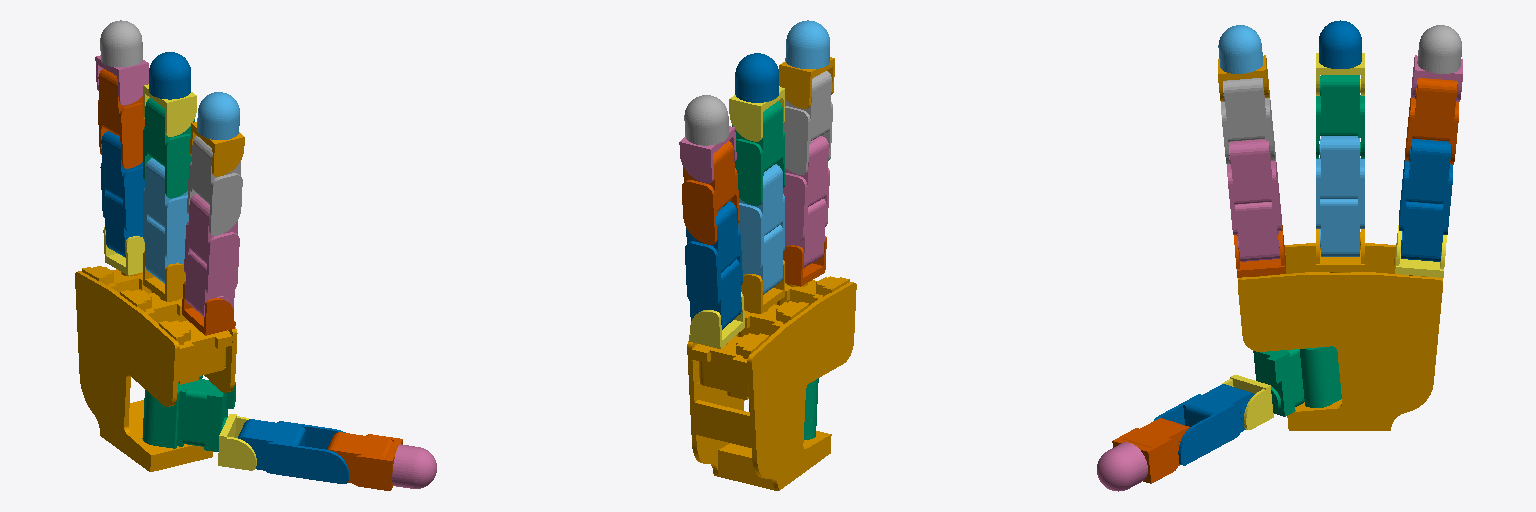
robot.urdf — allegro_left:
<?xml version="1.0" encoding="utf-8"?>
<robot name="allegro_left">
  <link name="base_link">
    <inertial>
      <mass value="0.4154"/>
      <origin rpy="0 0 0" xyz="0 0 0"/>
      <inertia ixx="1e-4" ixy="0" ixz="0" iyy="1e-4" iyz="0" izz="1e-4"/>
    </inertial>
    <visual>
      <geometry>
        <mesh filename="meshes/visual/base_link_left.stl"/>
      </geometry>
      <origin rpy="-1.570795 0 0" xyz="0 0 0 "/>
    </visual>
    <collision>
      <origin rpy="0 0 0" xyz="-0.009 0.0 -0.023"/>
      <geometry>
        <box size="0.0414 0.112 0.0448"/>
      </geometry>
    </collision>
    <collision>
      <origin rpy="0 0 0" xyz="-0.009 0.0253 -0.0667"/>
      <geometry>
        <box size="0.0414 0.0538 0.0428"/>
      </geometry>
    </collision>
    <collision>
      <origin rpy="0 0 0" xyz="-0.009300 0.00557 -0.08874"/>
      <geometry>
        <box size="0.0414 0.0720 0.013"/>
      </geometry>
    </collision>
  </link> <!--  virtual link-->
  <link name="palm"/>
  <joint name="palm_joint" type="fixed">
    <parent link="base_link"/>
    <child link="palm"/>
    <origin rpy="0.00000 -0.00000 0.00000" xyz="0 0 -0.065"/>
  </joint> <!--  virtual link-->
  <link name="wrist"/>
  <joint name="wrist_joint" type="fixed">
    <origin rpy="0 0 0" xyz="0 0 -0.03"/>
    <parent link="palm"/>
    <child link="wrist"/>
  </joint>
  <link name="link_0.0">
    <visual>
      <geometry>
        <mesh filename="meshes/visual/link_0.stl"/>
      </geometry>
    </visual>
    <collision>
      <geometry>
        <box size="0.0196 0.0275 0.0164"/>
      </geometry>
      <origin rpy="0 0 0" xyz="0 0 0.0082"/>
    </collision>
    <inertial>
      <mass value="0.0119"/>
      <origin xyz="0 0 0" rpy="0 0 0"/>
      <inertia ixx="1.01666658333e-06" ixy="0.0" ixz="0.0" iyy="6.47677333333e-07" iyz="0.0" izz="1.01666658333e-06"/>
    </inertial>
  </link>
  <joint name="joint_0.0" type="revolute">
    <axis xyz="0 0 1"/>
    <limit effort="10" lower="-0.47" upper="0.47" velocity="3.14"/>
    <parent link="base_link"/>
    <child link="link_0.0"/>
    <origin rpy="-0.08726646255 0 0" xyz="0 0.0435 -0.001542"/>
  </joint>
  <link name="link_1.0">
    <inertial>
      <mass value="0.065"/>
      <origin xyz="0 0 0" rpy="0 0 0"/>
      <inertia ixx="7.95654166667e-05" ixy="1.7199e-05" ixz="8.75875e-06" iyy="2.47088833333e-05" iyz="2.413125e-05" izz="7.95654166667e-05"/>
    </inertial>
    <visual>
      <geometry>
        <mesh filename="meshes/visual/link_1.stl"/>
      </geometry>
    </visual>
    <collision>
      <geometry>
        <box size="0.0196 0.0275 0.054"/>
      </geometry>
      <origin rpy="0 0 0" xyz="0 0 0.027"/>
    </collision>
  </link>
  <joint name="joint_1.0" type="revolute">
    <limit effort="10" lower="-0.196" upper="1.61" velocity="3.14"/>
    <axis xyz="0 1 0"/>
    <parent link="link_0.0"/>
    <child link="link_1.0"/>
    <origin xyz="0 0 0.0164"/>
  </joint>
  <link name="link_2.0">
    <inertial>
      <mass value="0.0355"/>
      <origin xyz="0 0 0" rpy="0 0 0"/>
      <inertia ixx="2.63979183333e-05" ixy="6.67968e-06" ixz="4.783625e-06" iyy="1.34948516667e-05" iyz="9.372e-06" izz="2.63979183333e-05"/>
    </inertial>
    <visual>
      <geometry>
        <mesh filename="meshes/visual/link_2.stl"/>
      </geometry>
    </visual>
    <collision>
      <geometry>
        <box size="0.0196 0.0275 0.0384"/>
      </geometry>
      <origin rpy="0 0 0" xyz="0 0 0.0192"/>
    </collision>
  </link>
  <joint name="joint_2.0" type="revolute">
    <axis xyz="0 1 0"/>
    <limit effort="10" lower="-0.174" upper="1.709" velocity="3.14"/>
    <parent link="link_1.0"/>
    <child link="link_2.0"/>
    <origin xyz="0 0 0.054"/>
  </joint>
  <link name="link_3.0">
    <visual>
      <geometry>
        <mesh filename="meshes/visual/link_3.stl"/>
      </geometry>
    </visual>
    <collision>
      <geometry>
        <box size="0.0196 0.0269 0.022"/>
      </geometry>
      <origin rpy="0 0 0" xyz="0 0 0.0047"/>
    </collision>
    <inertial>
      <origin rpy="0 0 0" xyz="0 0 0.01335"/>
      <mass value="0.02"/>
      <inertia ixx="1e-5" ixy="0.0" ixz="0.0" iyy="2e-5" iyz="0.0" izz="2e-5"/>
    </inertial>
  </link>
  <joint name="joint_3.0" type="revolute">
    <axis xyz="0 1 0"/>
    <limit effort="10" lower="-0.227" upper="1.618" velocity="3.14"/>
    <parent link="link_2.0"/>
    <child link="link_3.0"/>
    <origin xyz="0 0 0.0384"/>
  </joint>
  <link name="link_3.0_tip">
    <inertial>
      <mass value="0.0168"/>
      <origin xyz="0 0 0" rpy="0 0 0"/>
      <inertia ixx="9.68e-07" ixy="0" ixz="0" iyy="9.68e-07" iyz="0" izz="9.68e-07"/>
    </inertial>
    <visual>
      <origin rpy="0 0 0" xyz="0 0 -0.012"/>
      <geometry>
        <mesh filename="meshes/visual/link_tip.stl"/>
      </geometry>
    </visual>
    <collision>
      <origin rpy="0 0 0" xyz="0 0 -0.012"/>
      <geometry>
        <mesh filename="meshes/collision/link_tip.stl"/>
      </geometry>
    </collision>
  </link>
  <joint name="joint_3.0_tip" type="fixed">
    <parent link="link_3.0"/>
    <child link="link_3.0_tip"/>
    <origin rpy="0 0 0" xyz="0 0 0.0387"/>
  </joint>
  <link name="link_4.0">
    <inertial>
      <mass value="0.005"/>
      <origin xyz="0 0 0"/>
      <inertia ixx="5.1458e-05" iyy="5.1458e-05" izz="6.125e-05" ixy="0" ixz="0" iyz="0"/>
    </inertial>
    <visual>
      <geometry>
        <mesh filename="meshes/visual/link_0.stl"/>
      </geometry>
    </visual>
    <collision>
      <geometry>
        <box size="0.0196 0.0275 0.0164"/>
      </geometry>
      <origin rpy="0 0 0" xyz="0 0 0.0082"/>
    </collision>
  </link>
  <joint name="joint_4.0" type="revolute">
    <axis xyz="0 0 1"/>
    <limit effort="10" lower="-0.47" upper="0.47" velocity="3.14"/>
    <parent link="base_link"/>
    <child link="link_4.0"/>
    <origin rpy="0.0 0 0" xyz="0 0 0.0007"/>
  </joint>
  <link name="link_5.0">
    <inertial>
      <mass value="0.065"/>
      <origin xyz="0 0 0" rpy="0 0 0"/>
      <inertia ixx="7.95654166667e-05" ixy="1.7199e-05" ixz="8.75875e-06" iyy="2.47088833333e-05" iyz="2.413125e-05" izz="7.95654166667e-05"/>
    </inertial>
    <visual>
      <geometry>
        <mesh filename="meshes/visual/link_1.stl"/>
      </geometry>
    </visual>
    <collision>
      <geometry>
        <box size="0.0196 0.0275 0.054"/>
      </geometry>
      <origin rpy="0 0 0" xyz="0 0 0.027"/>
    </collision>
  </link>
  <joint name="joint_5.0" type="revolute">
    <limit effort="10" lower="-0.196" upper="1.61" velocity="3.14"/>
    <axis xyz="0 1 0"/>
    <parent link="link_4.0"/>
    <child link="link_5.0"/>
    <origin xyz="0 0 0.0164"/>
  </joint>
  <link name="link_6.0">
    <inertial>
      <mass value="0.0355"/>
      <origin xyz="0 0 0" rpy="0 0 0"/>
      <inertia ixx="2.63979183333e-05" ixy="6.67968e-06" ixz="4.783625e-06" iyy="1.34948516667e-05" iyz="9.372e-06" izz="2.63979183333e-05"/>
    </inertial>
    <visual>
      <geometry>
        <mesh filename="meshes/visual/link_2.stl"/>
      </geometry>
    </visual>
    <collision>
      <geometry>
        <box size="0.0196 0.0275 0.0384"/>
      </geometry>
      <origin rpy="0 0 0" xyz="0 0 0.0192"/>
    </collision>
  </link>
  <joint name="joint_6.0" type="revolute">
    <axis xyz="0 1 0"/>
    <limit effort="10" lower="-0.174" upper="1.709" velocity="3.14"/>
    <parent link="link_5.0"/>
    <child link="link_6.0"/>
    <origin xyz="0 0 0.054"/>
  </joint>
  <link name="link_7.0">
    <inertial>
      <mass value="0.0388"/>
      <origin xyz="0 0 0" rpy="0 0 0"/>
      <inertia ixx="3.29223173333e-05" ixy="8.042076e-06" ixz="5.2283e-06" iyy="1.47493026667e-5" iyz="1.1283525e-5" izz="3.29223173333e-05"/>
    </inertial>
    <visual>
      <geometry>
        <mesh filename="meshes/visual/link_3.stl"/>
      </geometry>
    </visual>
    <collision>
      <geometry>
        <box size="0.0196 0.0269 0.022"/>
      </geometry>
      <origin rpy="0 0 0" xyz="0 0 0.0047"/>
    </collision>
  </link>
  <joint name="joint_7.0" type="revolute">
    <axis xyz="0 1 0"/>
    <limit effort="10" lower="-0.227" upper="1.618" velocity="3.14"/>
    <parent link="link_6.0"/>
    <child link="link_7.0"/>
    <origin xyz="0 0 0.0384"/>
  </joint>
  <link name="link_7.0_tip">
    <inertial>
      <mass value="0.0096"/>
      <origin xyz="0 0 0" rpy="0 0 0"/>
      <inertia ixx="4.701248e-06" ixy="1.255968e-06" ixz="1.2936e-06" iyy="3.649312e-06" iyz="1.7622e-06" izz="4.701248e-06"/>
    </inertial>
    <visual>
      <origin rpy="0 0 0" xyz="0 0 -0.012"/>
      <geometry>
        <mesh filename="meshes/visual/link_tip.stl"/>
      </geometry>
    </visual>
    <collision>
      <origin rpy="0 0 0" xyz="0 0 -0.012"/>
      <geometry>
        <mesh filename="meshes/collision/link_tip.stl"/>
      </geometry>
    </collision>
  </link>
  <joint name="joint_7.0_tip" type="fixed">
    <parent link="link_7.0"/>
    <child link="link_7.0_tip"/>
    <origin rpy="0 0 0" xyz="0 0 0.0387"/>
  </joint>
  <link name="link_8.0">
    <inertial>
      <mass value="0.005"/>
      <origin xyz="0 0 0"/>
      <inertia ixx="5.1458e-05" iyy="5.1458e-05" izz="6.125e-05" ixy="0" ixz="0" iyz="0"/>
    </inertial>
    <visual>
      <geometry>
        <mesh filename="meshes/visual/link_0.stl"/>
      </geometry>
    </visual>
    <collision>
      <geometry>
        <box size="0.0196 0.0275 0.0164"/>
      </geometry>
      <origin rpy="0 0 0" xyz="0 0 0.0082"/>
    </collision>
  </link>
  <joint name="joint_8.0" type="revolute">
    <axis xyz="0 0 1"/>
    <limit effort="10" lower="-0.47" upper="0.47" velocity="3.14"/>
    <parent link="base_link"/>
    <child link="link_8.0"/>
    <origin rpy="0.08726646255 0 0" xyz="0 -0.0435 -0.001542"/>
  </joint>
  <link name="link_9.0">
    <inertial>
      <mass value="0.065"/>
      <origin xyz="0 0 0" rpy="0 0 0"/>
      <inertia ixx="7.95654166667e-05" ixy="1.7199e-05" ixz="8.75875e-06" iyy="2.47088833333e-05" iyz="2.413125e-05" izz="7.95654166667e-05"/>
    </inertial>
    <visual>
      <geometry>
        <mesh filename="meshes/visual/link_1.stl"/>
      </geometry>
    </visual>
    <collision>
      <geometry>
        <box size="0.0196 0.0275 0.054"/>
      </geometry>
      <origin rpy="0 0 0" xyz="0 0 0.027"/>
    </collision>
  </link>
  <joint name="joint_9.0" type="revolute">
    <limit effort="10" lower="-0.196" upper="1.61" velocity="3.14"/>
    <axis xyz="0 1 0"/>
    <parent link="link_8.0"/>
    <child link="link_9.0"/>
    <origin xyz="0 0 0.0164"/>
  </joint>
  <link name="link_10.0">
    <inertial>
      <mass value="0.0355"/>
      <origin xyz="0 0 0" rpy="0 0 0"/>
      <inertia ixx="2.63979183333e-05" ixy="6.67968e-06" ixz="4.783625e-06" iyy="1.34948516667e-05" iyz="9.372e-06" izz="2.63979183333e-05"/>
    </inertial>
    <visual>
      <geometry>
        <mesh filename="meshes/visual/link_2.stl"/>
      </geometry>
    </visual>
    <collision>
      <geometry>
        <box size="0.0196 0.0275 0.0384"/>
      </geometry>
      <origin rpy="0 0 0" xyz="0 0 0.0192"/>
    </collision>
  </link>
  <joint name="joint_10.0" type="revolute">
    <axis xyz="0 1 0"/>
    <limit effort="10" lower="-0.174" upper="1.709" velocity="3.14"/>
    <parent link="link_9.0"/>
    <child link="link_10.0"/>
    <origin xyz="0 0 0.054"/>
  </joint>
  <link name="link_11.0">
    <inertial>
      <mass value="0.0096"/>
      <origin xyz="0 0 0" rpy="0 0 0"/>
      <inertia ixx="4.701248e-06" ixy="1.255968e-06" ixz="1.2936e-06" iyy="3.649312e-06" iyz="1.7622e-06" izz="4.701248e-06"/>
    </inertial>
    <visual>
      <geometry>
        <mesh filename="meshes/visual/link_3.stl"/>
      </geometry>
    </visual>
    <collision>
      <geometry>
        <box size="0.0196 0.0269 0.022"/>
      </geometry>
      <origin rpy="0 0 0" xyz="0 0 0.0047"/>
    </collision>
  </link>
  <joint name="joint_11.0" type="revolute">
    <axis xyz="0 1 0"/>
    <limit effort="10" lower="-0.227" upper="1.618" velocity="3.14"/>
    <parent link="link_10.0"/>
    <child link="link_11.0"/>
    <origin xyz="0 0 0.0384"/>
  </joint>
  <link name="link_11.0_tip">
    <inertial>
      <mass value="0.0168"/>
      <origin xyz="0 0 0" rpy="0 0 0"/>
      <inertia ixx="9.68e-07" ixy="0" ixz="0" iyy="9.68e-07" iyz="0" izz="9.68e-07"/>
    </inertial>
    <visual>
      <origin rpy="0 0 0" xyz="0 0 -0.012"/>
      <geometry>
        <mesh filename="meshes/visual/link_tip.stl"/>
      </geometry>
    </visual>
    <collision>
      <origin rpy="0 0 0" xyz="0 0 -0.012"/>
      <geometry>
        <mesh filename="meshes/collision/link_tip.stl"/>
      </geometry>
    </collision>
  </link>
  <joint name="joint_11.0_tip" type="fixed">
    <parent link="link_11.0"/>
    <child link="link_11.0_tip"/>
    <origin rpy="0 0 0" xyz="0 0 0.0387"/>
  </joint> <!-- THUMB -->
  <link name="link_12.0">
    <inertial>
      <mass value="0.0176"/>
      <origin xyz="0 0 0" rpy="0 0 0"/>
      <inertia ixx="1.89273333333e-5" ixy="7.16716e-06" ixz="5.35568e-06" iyy="1.43008213333e-05" iyz="6.8068e-06" izz="1.89273333333e-05"/>
    </inertial>
    <visual>
      <geometry>
        <mesh filename="meshes/visual/link_12_left.stl"/>
      </geometry>
      <origin rpy="3.14159 0 0" xyz="0 0 0"/>
    </visual>
    <collision>
      <geometry>
        <box size="0.0358 0.034 0.0455"/>
      </geometry>
      <origin rpy="0 0 0" xyz="-0.0179 0.009 0.0145"/>
    </collision>
  </link>
  <joint name="joint_12.0" type="revolute">
    <axis xyz="1 0 0"/>
    <limit effort="10" lower="0.263" upper="1.396" velocity="3.14"/>
    <parent link="base_link"/>
    <child link="link_12.0"/>
    <origin xyz="-0.0182 -0.019333 -0.045987" rpy="0 -1.65806278845 1.5707963259"/>
  </joint>
  <link name="link_13.0">
    <inertial>
      <mass value="0.0119"/>
      <origin xyz="0 0 0" rpy="0 0 0"/>
      <inertia ixx="4.24250866667e-06" ixy="1.032087e-06" ixz="1.603525e-06" iyy="4.52362633333e-06" iyz="1.44808125e-06" izz="4.24250866667e-06"/>
    </inertial>
    <visual>
      <geometry>
        <mesh filename="meshes/visual/link_13.stl"/>
      </geometry>
    </visual>
    <collision>
      <geometry>
        <box size="0.0196 0.0275 0.0177"/>
      </geometry>
      <origin rpy="0 0 0" xyz="0 0 0.00885"/>
    </collision>
  </link>
  <joint name="joint_13.0" type="revolute">
    <axis xyz="0 0 -1"/>
    <limit effort="10" lower="-0.105" upper="1.163" velocity="3.14"/>
    <parent link="link_12.0"/>
    <child link="link_13.0"/>
    <origin xyz="-0.027 0.005 0.0399"/>
  </joint>
  <link name="link_14.0">
    <inertial>
      <mass value="0.038"/>
      <origin xyz="0 0 0" rpy="0 0 0"/>
      <inertia ixx="4.30439933333e-05" ixy="9.57068e-06" ixz="5.1205e-06" iyy="1.44451933333e-05" iyz="1.342825e-05" izz="4.30439933333e-05"/>
    </inertial>
    <visual>
      <geometry>
        <mesh filename="meshes/visual/link_14.stl"/>
      </geometry>
    </visual>
    <collision>
      <geometry>
        <box size="0.0196 0.0275 0.0514"/>
      </geometry>
      <origin rpy="0 0 0" xyz="0 0 0.0257"/>
    </collision>
  </link>
  <joint name="joint_14.0" type="revolute">
    <axis xyz="0 1 0"/>
    <limit effort="10" lower="-0.189" upper="1.644" velocity="3.14"/>
    <parent link="link_13.0"/>
    <child link="link_14.0"/>
    <origin xyz="0 0 0.0177"/>
  </joint>
  <link name="link_15.0">
    <inertial>
      <mass value="0.0388"/>
      <origin xyz="0 0 0" rpy="0 0 0"/>
      <inertia ixx="3.29223173333e-05" ixy="8.042076e-06" ixz="5.2283e-06" iyy="1.47493026667e-5" iyz="1.1283525e-5" izz="3.29223173333e-05"/>
    </inertial>
    <visual>
      <geometry>
        <mesh filename="meshes/visual/link_15.stl"/>
      </geometry>
    </visual>
    <collision>
      <geometry>
        <box size="0.0196 0.0269 0.04"/>
      </geometry>
      <origin rpy="0 0 0" xyz="0 0 0.01125"/>
    </collision>
  </link>
  <joint name="joint_15.0" type="revolute">
    <axis xyz="0 1 0"/>
    <limit effort="10" lower="-0.162" upper="1.719" velocity="3.14"/>
    <parent link="link_14.0"/>
    <child link="link_15.0"/>
    <origin xyz="0 0 0.0514"/>
  </joint>
  <link name="link_15.0_tip">
    <inertial>
      <mass value="0.0168"/>
      <origin xyz="0 0 0" rpy="0 0 0"/>
      <inertia ixx="9.68e-07" ixy="0" ixz="0" iyy="9.68e-07" iyz="0" izz="9.68e-07"/>
    </inertial>
    <visual>
      <origin rpy="0 0 0" xyz="0 0 -0.012"/>
      <geometry>
        <mesh filename="meshes/visual/link_tip.stl"/>
      </geometry>
    </visual>
    <collision>
      <origin rpy="0 0 0" xyz="0 0 -0.012"/>
      <geometry>
        <mesh filename="meshes/collision/link_tip.stl"/>
      </geometry>
    </collision>
  </link>
  <joint name="joint_15.0_tip" type="fixed">
    <parent link="link_15.0"/>
    <child link="link_15.0_tip"/>
    <origin rpy="0 0 0" xyz="0 0 0.0543"/>
  </joint>
</robot>

--- What the picture shows (computed from the rendered views, not written in the file) ---
3 views of the same robot in one strip: view 1: azimuth 30°, elevation 25°; view 2: azimuth 150°, elevation 25°; view 3: azimuth 270°, elevation 25° (orthographic).
Robot: allegro_left — 23 links, 22 joints (16 revolute, 6 fixed); root link base_link; default pose: joints at zero except 1 at the middle of their limits (joint_12.0 = 0.8295).
Visible links, largest first — view 1: base_link, link_14.0, link_12.0, link_9.0, link_5.0, link_1.0, link_10.0, link_15.0, link_6.0, link_2.0, link_11.0_tip, link_7.0_tip (+9 smaller); view 2: base_link, link_1.0, link_9.0, link_5.0, link_2.0, link_10.0, link_6.0, link_3.0_tip, link_7.0_tip, link_11.0_tip, link_0.0, link_11.0 (+5 smaller); view 3: base_link, link_9.0, link_1.0, link_5.0, link_12.0, link_14.0, link_10.0, link_2.0, link_6.0, link_15.0, link_15.0_tip, link_3.0_tip (+9 smaller).
Link boxes in pixels (<box>): base_link: <box>75,266,237,471</box>; link_14.0: <box>238,419,348,483</box>; link_12.0: <box>142,375,235,451</box>; link_9.0: <box>184,194,239,316</box>; link_5.0: <box>143,158,188,283</box>; link_1.0: <box>100,131,144,257</box>; link_10.0: <box>187,136,242,235</box>; link_15.0: <box>327,432,402,490</box>; link_6.0: <box>143,98,194,198</box>; link_2.0: <box>98,68,144,168</box>; link_11.0_tip: <box>197,92,239,139</box>; link_7.0_tip: <box>149,52,190,99</box>; base_link: <box>687,276,856,490</box>; link_1.0: <box>685,201,742,329</box>; link_9.0: <box>783,136,829,267</box>; link_5.0: <box>738,164,784,294</box>; link_2.0: <box>682,141,739,244</box>; link_10.0: <box>783,71,832,174</box>; link_6.0: <box>732,101,784,205</box>; link_3.0_tip: <box>684,95,728,145</box>; link_7.0_tip: <box>735,53,778,102</box>; link_11.0_tip: <box>785,20,829,68</box>; link_0.0: <box>689,292,744,348</box>; link_11.0: <box>779,57,834,108</box>; base_link: <box>1238,243,1442,430</box>; link_9.0: <box>1227,139,1281,261</box>; link_1.0: <box>1399,139,1452,261</box>; link_5.0: <box>1316,136,1364,256</box>; link_12.0: <box>1253,346,1341,416</box>; link_14.0: <box>1154,384,1254,465</box>; link_10.0: <box>1221,78,1275,164</box>; link_2.0: <box>1405,78,1458,164</box>; link_6.0: <box>1316,75,1364,158</box>; link_15.0: <box>1112,418,1189,483</box>; link_15.0_tip: <box>1097,442,1147,491</box>; link_3.0_tip: <box>1417,25,1461,73</box>.
Size in the robot's own frame: 0.1315 by 0.2022 by 0.2432 metres.
Meshes: 10 distinct files referenced, 21 mesh visuals loaded (10 binary STL).
